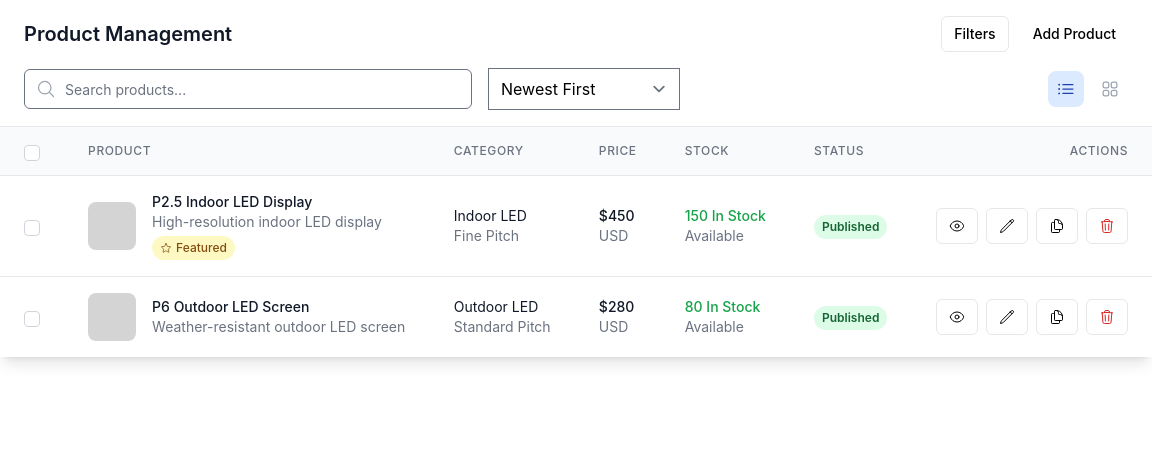
Test case: ProductManagement › selects and deselects products
Note: Select product
Click the checkbox below "P2.5 Indoor LED Display": (32, 228) [24,220,40,236]
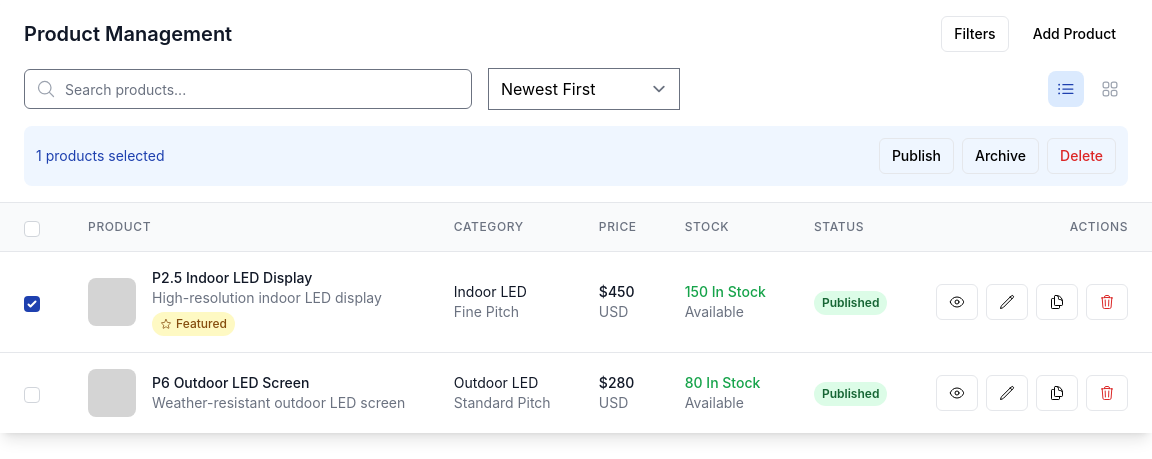
Now the text "1 products selected" is shown, box [36,146,164,166]
